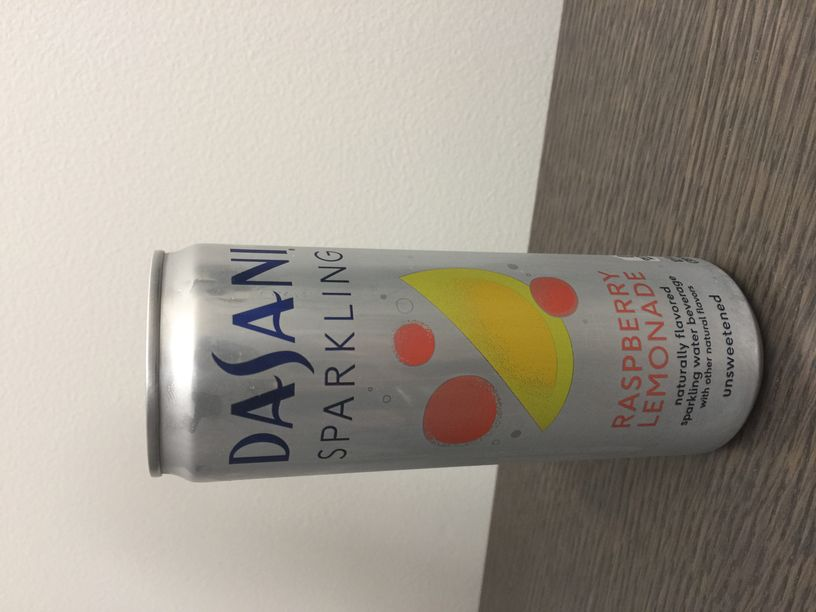lemonade: (374, 258, 673, 454)
